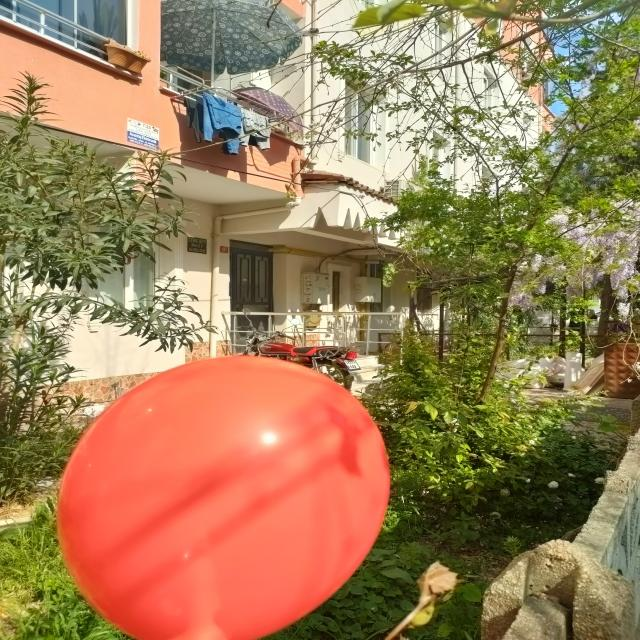red: (60, 357, 389, 640)
